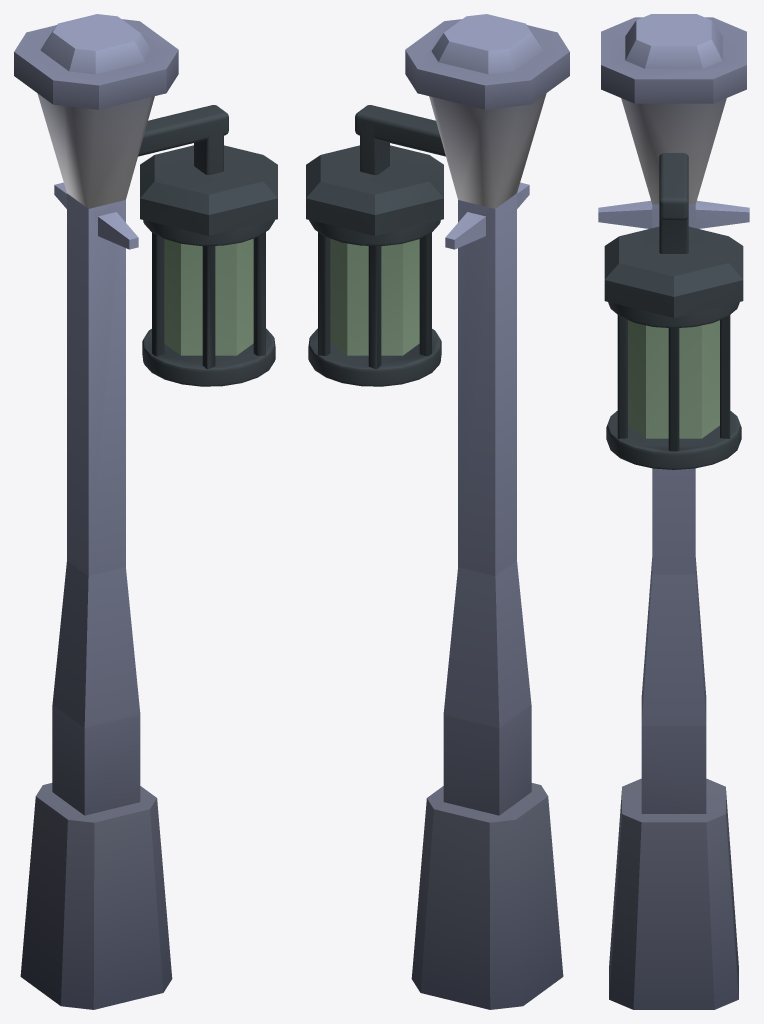
The model's file is fw_street_light_sporecell.glb.
The picture shows the model from 3 angles, left to right: view 1: azimuth 30°, elevation 25°; view 2: azimuth 150°, elevation 25°; view 3: azimuth 270°, elevation 25°; orthographic projection.
Parts seen in each view (by area): view 1: body; view 2: body; view 3: body.
Part boxes in pixels (box(x1,y1,x2,y2)): body: box(14, 14, 277, 1009); body: box(306, 14, 569, 1009); body: box(598, 14, 749, 1009).
Size of the model in its own units: 0.6732 by 2.49 by 0.3589.
